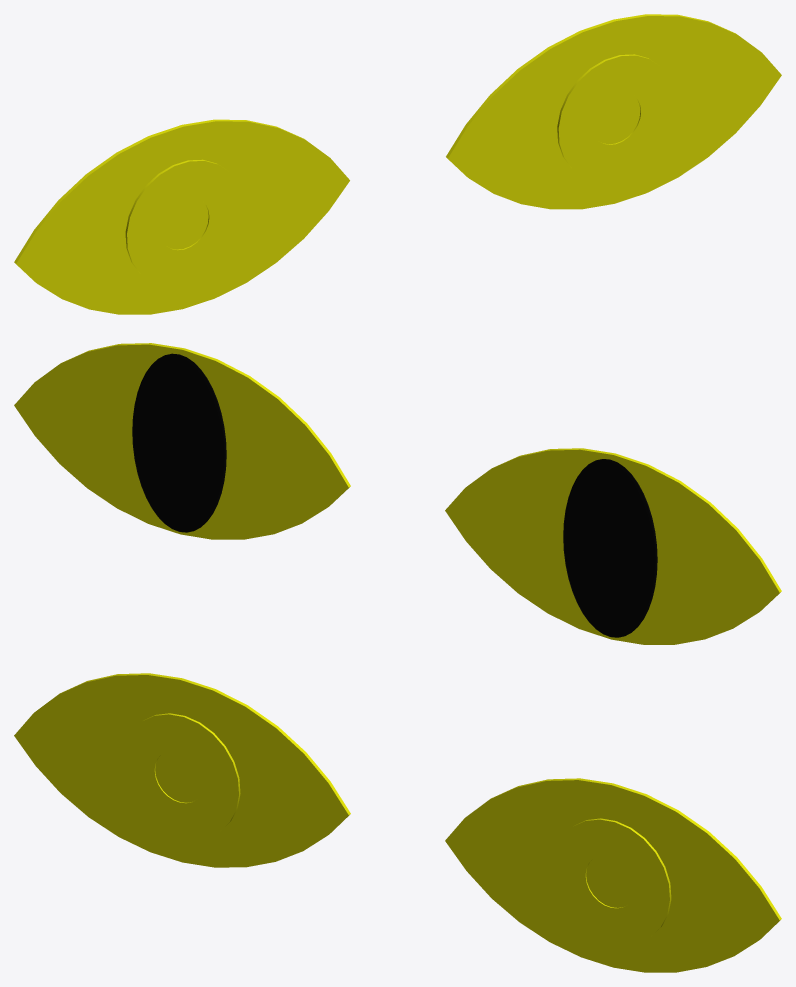
Rendered from Eyes.fbx.
The picture shows the model from 3 angles, top to bottom: view 1: azimuth 30°, elevation 25°; view 2: azimuth 150°, elevation 25°; view 3: azimuth 330°, elevation 25°; orthographic projection.
Parts seen in each view (by area): view 1: Eyes, eyes; view 2: eyes, Eyes, iris (×2); view 3: Eyes, eyes.
Boxes of the visible parts, x1,y1,x2,y2 form: Eyes: (446,14,781,209); eyes: (14,119,349,314); eyes: (445,448,781,644); Eyes: (14,343,350,539); iris (×2): (132,353,657,637); Eyes: (445,778,781,972); eyes: (14,673,350,867).
Bounding box in the file's own units: 5.72 × 1.31 × 0.068.
